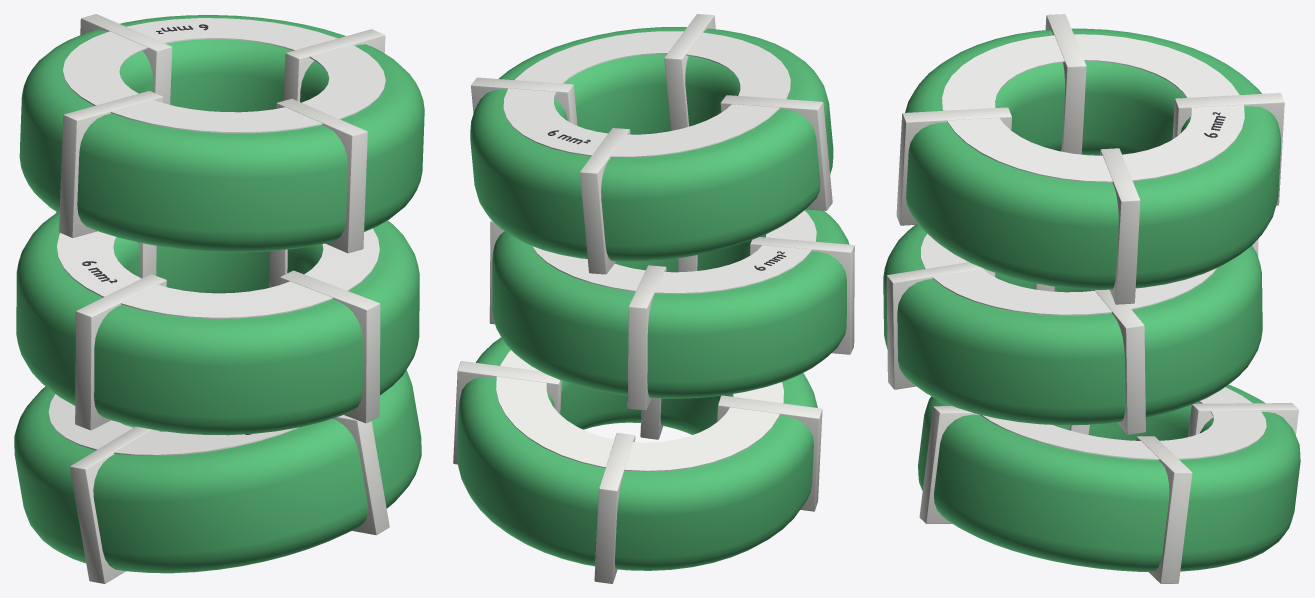
Rendered from ELE-FIO-004_anim.glb.
3 renders of one model, left to right at view 1: azimuth 30°, elevation 25°; view 2: azimuth 150°, elevation 25°; view 3: azimuth 270°, elevation 25°, orthographic. The views are drawn at different scales.
Parts seen in each view (by area): view 1: ELE-FIO-004_anim2, ELE-FIO-004_anim1, ELE-FIO-004_anim0; view 2: ELE-FIO-004_anim2, ELE-FIO-004_anim0, ELE-FIO-004_anim1; view 3: ELE-FIO-004_anim2, ELE-FIO-004_anim0, ELE-FIO-004_anim1.
Part boxes in pixels (box(x1,y1,x2,y2)): ELE-FIO-004_anim2: box(19, 14, 424, 253); ELE-FIO-004_anim1: box(16, 212, 419, 435); ELE-FIO-004_anim0: box(14, 370, 421, 583); ELE-FIO-004_anim2: box(470, 14, 833, 274); ELE-FIO-004_anim0: box(453, 337, 822, 583); ELE-FIO-004_anim1: box(489, 209, 854, 410); ELE-FIO-004_anim2: box(896, 14, 1284, 304); ELE-FIO-004_anim0: box(918, 384, 1300, 583); ELE-FIO-004_anim1: box(883, 224, 1262, 434).
Size of the model in its own units: 0.3174 by 0.3912 by 0.3299.
